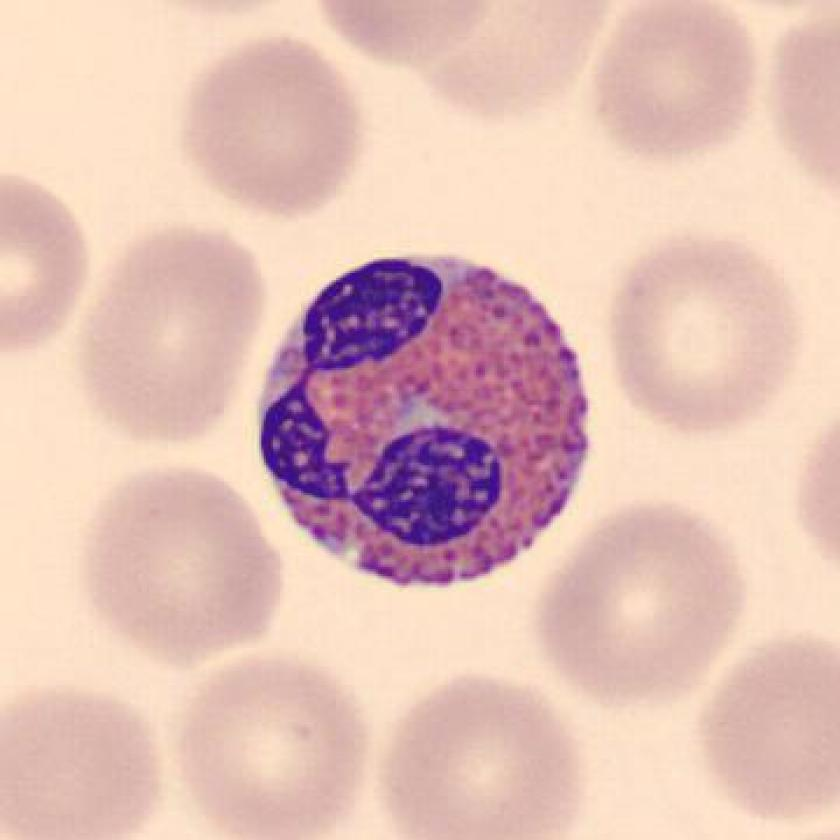eosinophil: (248, 249, 603, 600)
